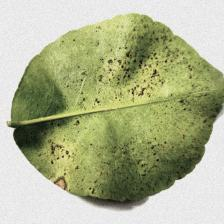canker: (92, 49, 181, 116)
